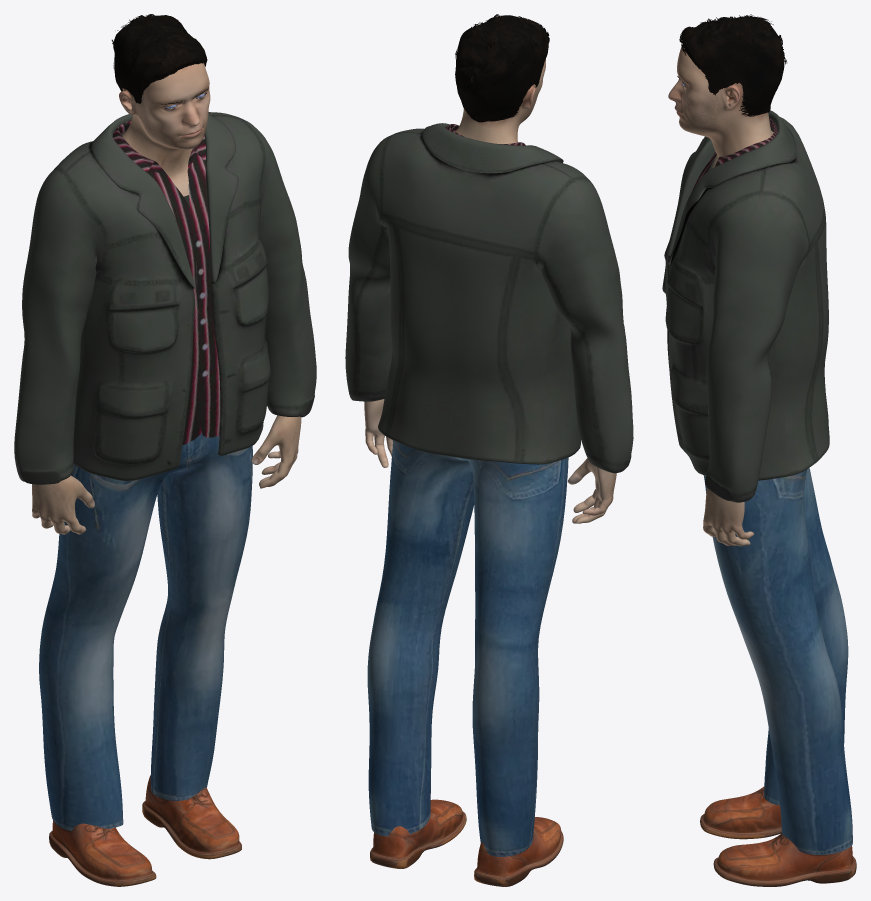
The model's file is avatar_m.glb.
The picture shows the model from 3 angles, left to right: view 1: azimuth 30°, elevation 25°; view 2: azimuth 150°, elevation 25°; view 3: azimuth 270°, elevation 25°; orthographic projection. The views are drawn at different scales.
Visible parts, largest first — view 1: man_body.male_casualsuit05, man_body, man_body.shoes01, man_body.short01; view 2: man_body.male_casualsuit05, man_body.short01, man_body.shoes01, man_body; view 3: man_body.male_casualsuit05, man_body.shoes01, man_body, man_body.short01.
Boxes of the visible parts, x1=… form: man_body.male_casualsuit05: x1=14, y1=112, x2=316, y2=830; man_body: x1=32, y1=63, x2=301, y2=534; man_body.shoes01: x1=49, y1=775, x2=241, y2=886; man_body.short01: x1=111, y1=14, x2=207, y2=103; man_body.male_casualsuit05: x1=345, y1=123, x2=633, y2=856; man_body.short01: x1=455, y1=14, x2=549, y2=122; man_body.shoes01: x1=370, y1=799, x2=563, y2=886; man_body: x1=364, y1=59, x2=616, y2=523; man_body.male_casualsuit05: x1=662, y1=110, x2=852, y2=854; man_body.shoes01: x1=700, y1=786, x2=856, y2=886; man_body: x1=668, y1=47, x2=773, y2=546; man_body.short01: x1=679, y1=14, x2=787, y2=116.
Bounding box in the file's own units: 0.6592 × 1.79 × 0.3814.
Materials: 9 (9 with a texture image).
